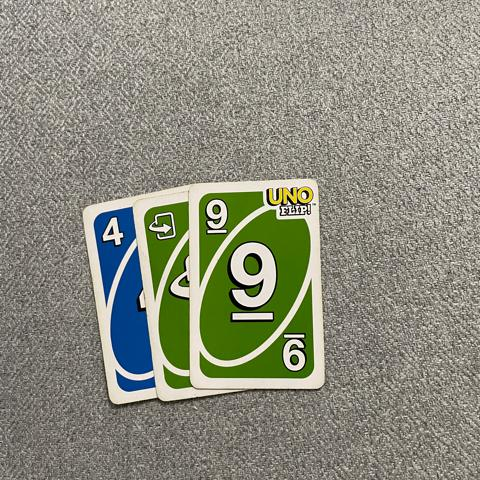lblue-4: (92, 210, 130, 258)
lgreen-9: (197, 192, 235, 240)
lgreenflip-20: (142, 206, 182, 250)
